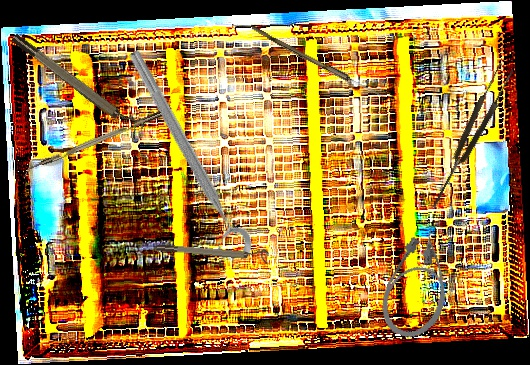Cannula: (372, 218, 469, 346)
Chopper: (20, 111, 165, 180)
Fixation Ring: (111, 45, 258, 269), (8, 25, 148, 141), (155, 237, 270, 265)
Surgical Spoon: (249, 25, 386, 100)
Tissue Forceps: (423, 61, 517, 213)
